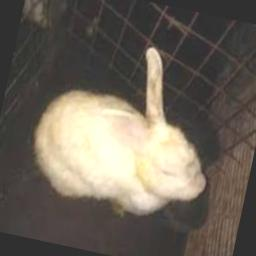rabbit: (33, 46, 205, 215)
